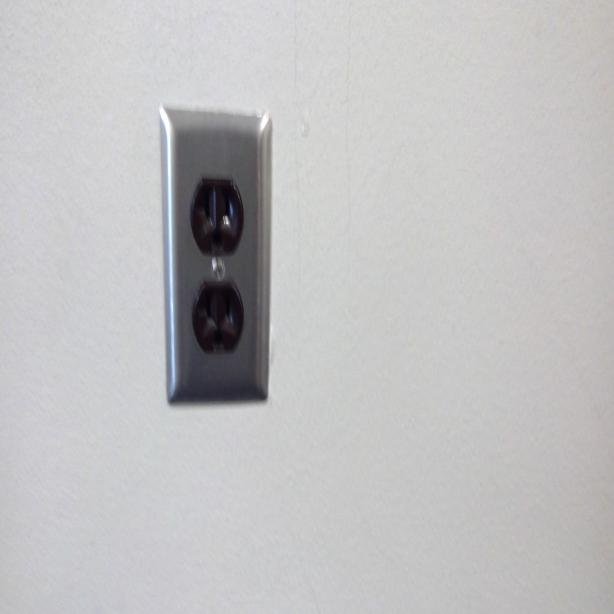typeb: (192, 180, 242, 256), (198, 284, 240, 350)
